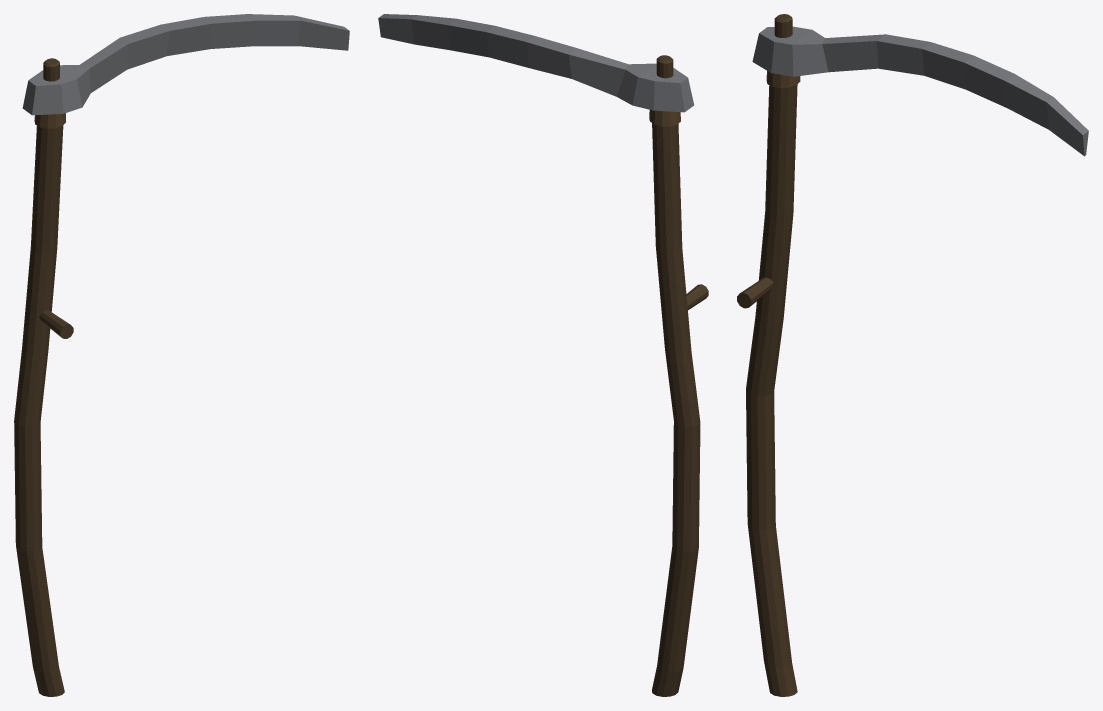
The model's file is Scythe_1.fbx.
The picture shows the model from 3 angles, left to right: view 1: azimuth 30°, elevation 25°; view 2: azimuth 150°, elevation 25°; view 3: azimuth 330°, elevation 25°; orthographic projection. The views are drawn at different scales.
Parts seen in each view (by area): view 1: Scythe_1; view 2: Scythe_1; view 3: Scythe_1.
Part boxes in pixels (bbox=[...]): Scythe_1: bbox=[14, 14, 349, 696]; Scythe_1: bbox=[378, 14, 708, 696]; Scythe_1: bbox=[737, 14, 1088, 696].
Size of the model in its own units: 77.98 by 145 by 16.83.
